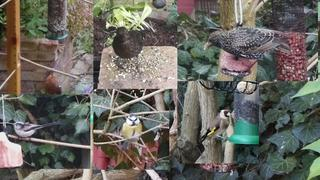blackbird: (112, 27, 151, 76)
blue tit: (120, 114, 143, 150)
goldfinch: (198, 108, 232, 144)
long tailed tit: (12, 121, 64, 141)
starling: (204, 27, 291, 60)
